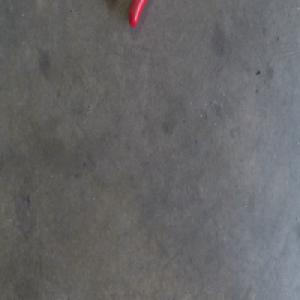Pliers: (127, 0, 146, 27)
